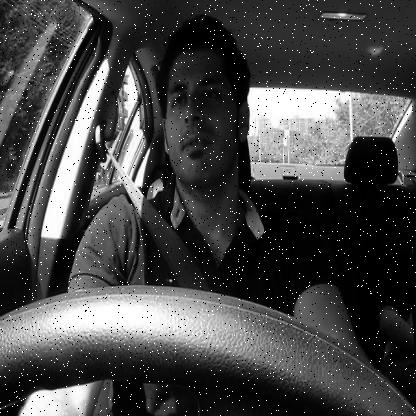seatbelt: (89, 0, 261, 293)
